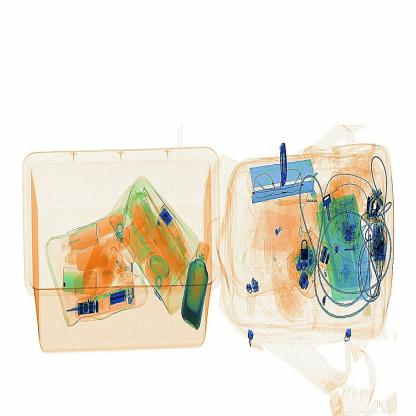knife: (272, 132, 300, 198)
